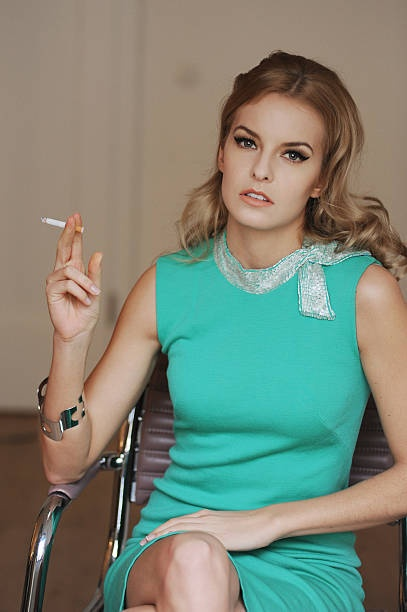sigaretta: (36, 208, 82, 237)
